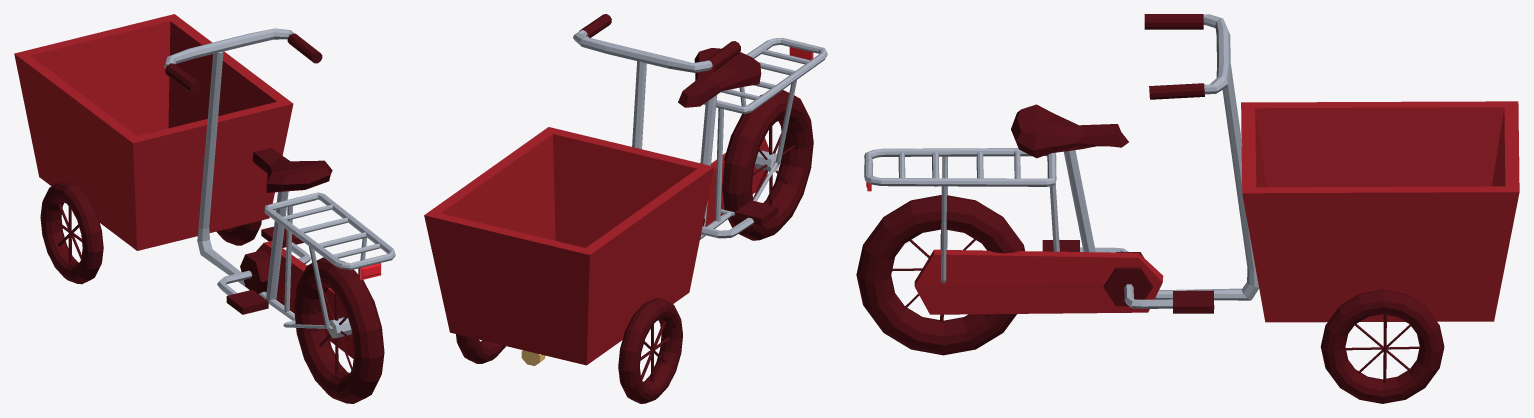
File: Bakfiets.fbx
3 views of the same model, side by side, from view 1: azimuth 30°, elevation 25°; view 2: azimuth 150°, elevation 25°; view 3: azimuth 270°, elevation 25° (orthographic). The views are drawn at different scales.
Parts seen in each view (by area): view 1: bak, wielen, metaal, zadel, Peddels, kettingkast, handvaten; view 2: bak, wielen, metaal, zadel, kettingkast, handvaten, Peddels; view 3: bak, wielen, kettingkast, metaal, zadel, Peddels, handvaten.
Part boxes in pixels (left/top/right/bottom): bak: left=14, top=14, right=293, bottom=250; wielen: left=40, top=181, right=384, bottom=403; metaal: left=164, top=28, right=395, bottom=338; zadel: left=252, top=147, right=332, bottom=192; Peddels: left=226, top=226, right=303, bottom=314; kettingkast: left=256, top=241, right=354, bottom=358; handvaten: left=165, top=33, right=322, bottom=94; bak: left=424, top=127, right=714, bottom=365; wielen: left=456, top=90, right=813, bottom=403; metaal: left=573, top=30, right=827, bottom=239; zadel: left=678, top=48, right=761, bottom=107; kettingkast: left=588, top=35, right=768, bottom=226; handvaten: left=579, top=14, right=740, bottom=71; Peddels: left=700, top=200, right=778, bottom=237; bak: left=1241, top=101, right=1519, bottom=322; wielen: left=856, top=195, right=1444, bottom=403; kettingkast: left=914, top=249, right=1163, bottom=314; metaal: left=864, top=14, right=1258, bottom=308; zadel: left=1011, top=104, right=1128, bottom=158; Peddels: left=1042, top=240, right=1214, bottom=313; handvaten: left=1144, top=14, right=1204, bottom=99.
Bounding box in the file's own units: 376 × 549 × 1056.
